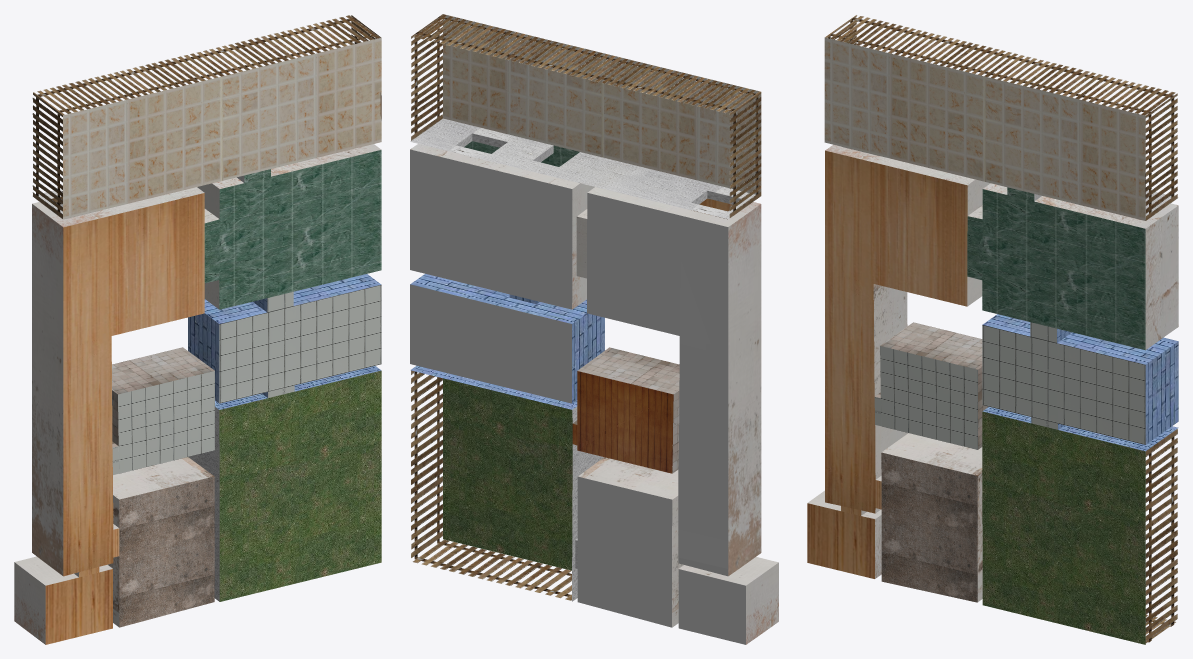
File: House_v7.fbx
3 views of the same model, side by side, from view 1: azimuth 30°, elevation 25°; view 2: azimuth 150°, elevation 25°; view 3: azimuth 330°, elevation 25° (orthographic).
Parts seen in each view (by area): view 1: MapV3.001; view 2: MapV3.001; view 3: MapV3.001.
Boxes of the visible parts, left/top/right/bottom form: MapV3.001: left=14, top=15, right=381, bottom=644; MapV3.001: left=410, top=14, right=778, bottom=644; MapV3.001: left=807, top=15, right=1178, bottom=644.
Size of the model in its own units: 29.15 by 43.54 by 4.85.
